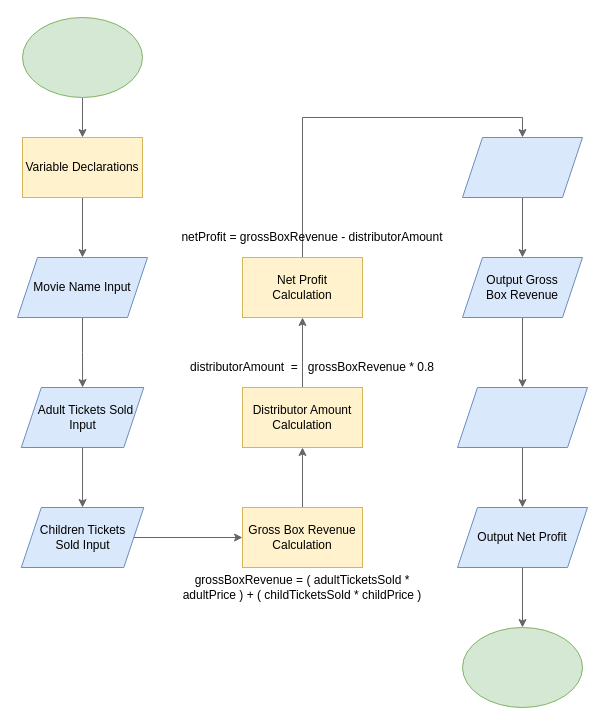
Some shapes in this 605 by 725 pixel diagram are drawn without their labels. The shapes that lost their labels are listed below. From the top down, each one's box as (x1, y1, x2, y2) in pixels, then its label:
(22, 16, 142, 98): START
(462, 136, 582, 198): Output Movie Name
(456, 386, 588, 448): Output Distributor Amount
(462, 626, 582, 708): END
